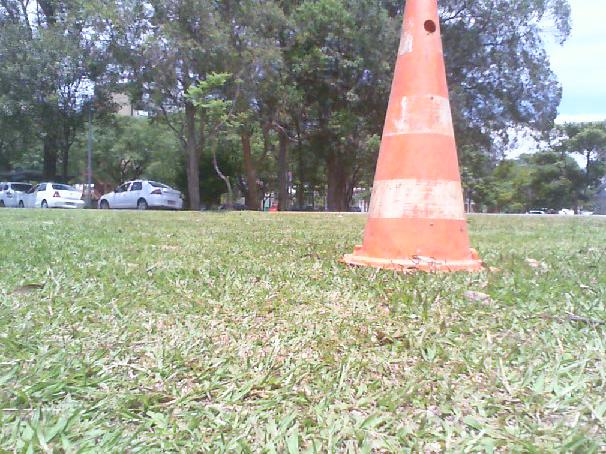0 cone: (344, 0, 498, 276)
